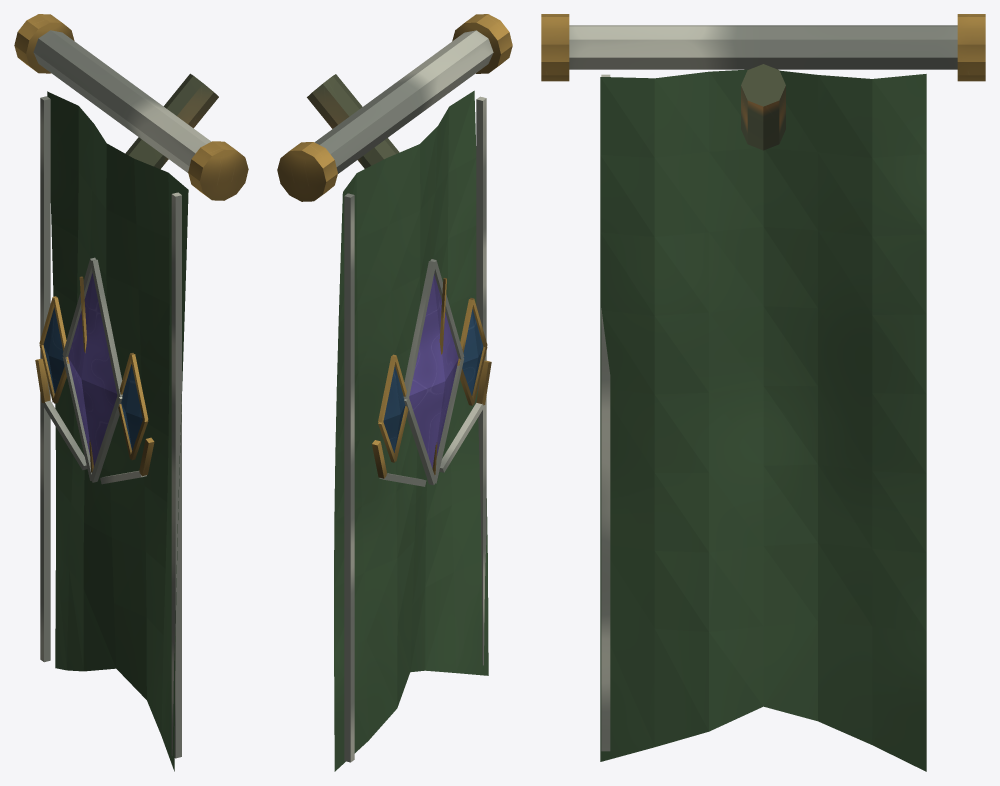
Rendered from b16_banner.fbx.
The picture shows the model from 3 angles, left to right: view 1: azimuth 30°, elevation 25°; view 2: azimuth 150°, elevation 25°; view 3: azimuth 270°, elevation 25°; orthographic projection. The views are drawn at different scales.
Parts seen in each view (by area): view 1: b16_banner; view 2: b16_banner; view 3: b16_banner.
Boxes of the visible parts, left/top/right/bottom form: b16_banner: left=14, top=14, right=248, bottom=771; b16_banner: left=277, top=14, right=512, bottom=771; b16_banner: left=541, top=14, right=985, bottom=771.
Size of the model in its own units: 3333 by 7900 by 14900.
